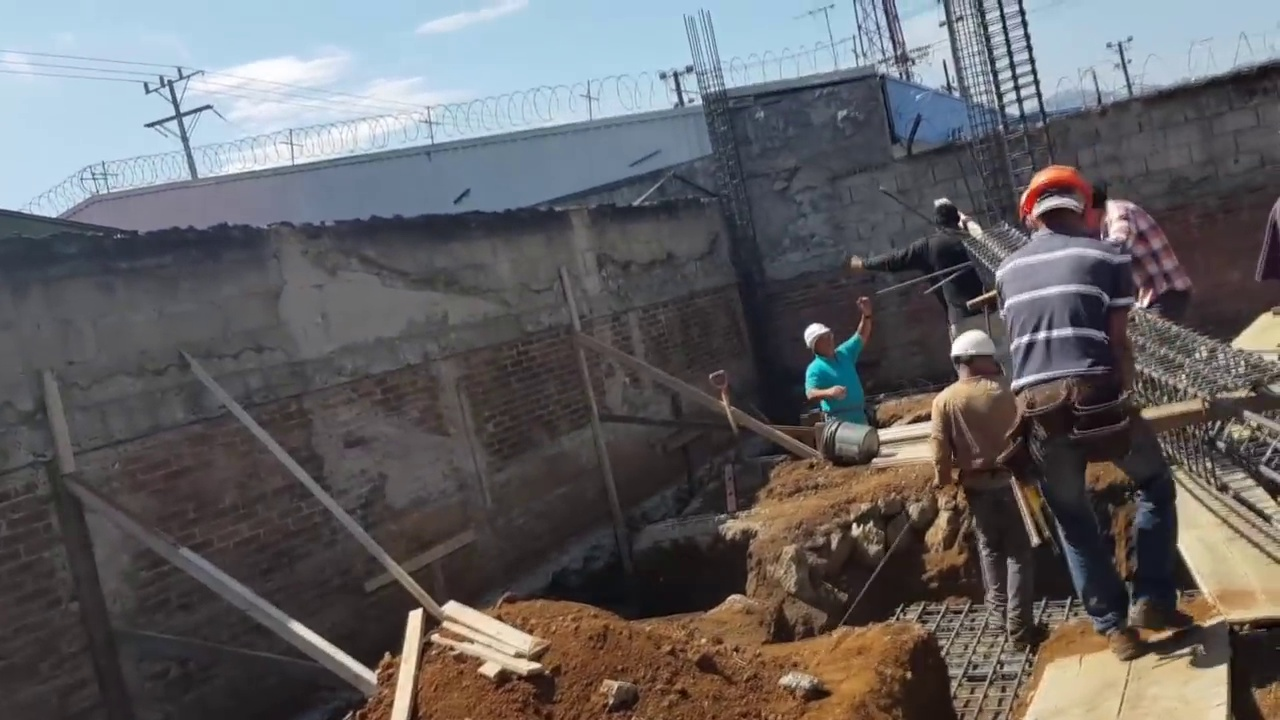helmet: (1019, 163, 1093, 225), (948, 331, 1000, 360), (804, 323, 829, 351)
helmet-off: (931, 199, 961, 233)
helmet-on: (1025, 164, 1098, 250), (946, 333, 1004, 386), (806, 325, 836, 357)
person: (1014, 171, 1191, 664), (931, 323, 1050, 630), (850, 198, 974, 399), (1090, 196, 1194, 318), (803, 297, 872, 438)
